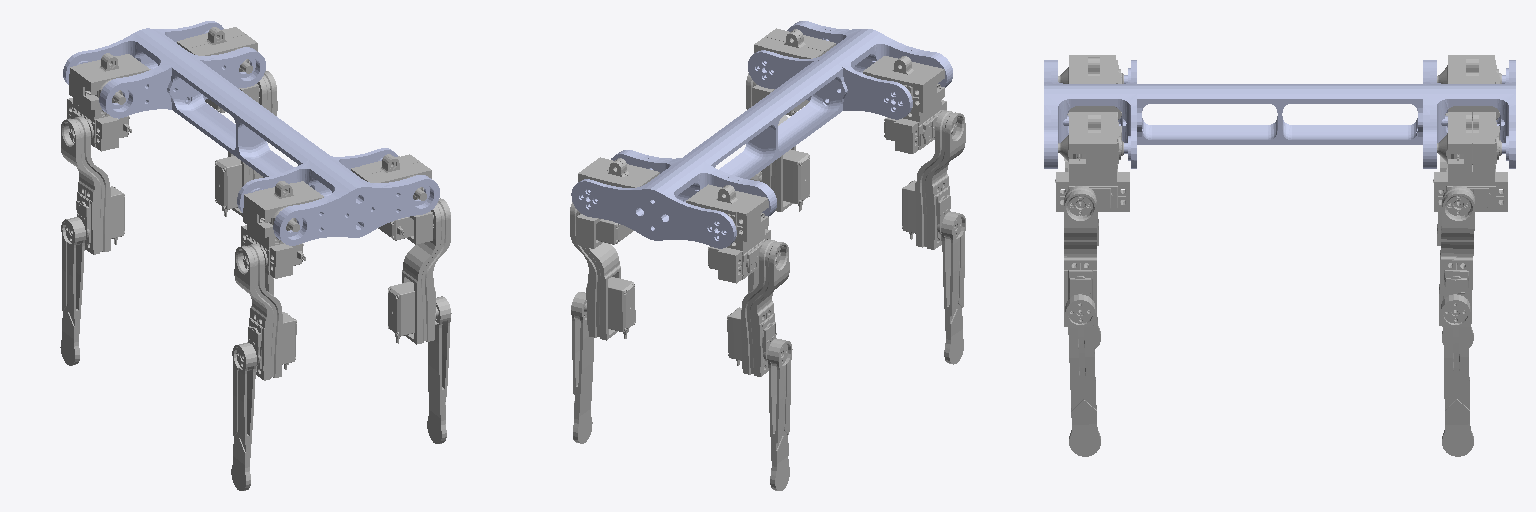
robot.urdf — Whole BODY URDF SET UP ( V2 ):
<?xml version="1.0" encoding="utf-8"?>
<!-- This URDF was automatically created by SolidWorks to URDF Exporter! Originally created by [author] ([email redacted]) 
     Commit Version: 1.6.1-9-gee910b2-dirty  Build Version: 1.6.9034.11310
     For more information, please see http://wiki.ros.org/sw_urdf_exporter -->
<robot
  name="Whole BODY URDF SET UP ( V2 )">
  <link
    name="base_link">
    <inertial>
      <origin
        xyz="-3.79190785246178E-12 -4.73285476426069E-11 1.22993156310138E-05"
        rpy="0 0 0" />
      <mass
        value="0.071294423148794" />
      <inertia
        ixx="0.00039909716321472"
        ixy="-6.42255536015403E-13"
        ixz="-1.70947655441163E-16"
        iyy="3.1007733586229E-05"
        iyz="-3.32423473596328E-15"
        izz="0.000378318474974679" />
    </inertial>
    <visual>
      <origin
        xyz="0 0 0"
        rpy="0 0 0" />
      <geometry>
        <mesh
          filename="package://Whole BODY URDF SET UP ( V2 )/meshes/base_link.STL" />
      </geometry>
      <material
        name="">
        <color
          rgba="0.792156862745098 0.819607843137255 0.933333333333333 1" />
      </material>
    </visual>
    <collision>
      <origin
        xyz="0 0 0"
        rpy="0 0 0" />
      <geometry>
        <mesh
          filename="package://Whole BODY URDF SET UP ( V2 )/meshes/base_link.STL" />
      </geometry>
    </collision>
  </link>
  <link
    name="Front_Hip">
    <inertial>
      <origin
        xyz="-0.0542406994322873 0.0327335172749213 3.69224386728647E-05"
        rpy="0 0 0" />
      <mass
        value="0.122989405191837" />
      <inertia
        ixx="0.000104696460550069"
        ixy="-5.87910722635516E-13"
        ixz="-4.97582005308306E-12"
        iyy="9.37282525412572E-05"
        iyz="2.09107841059147E-08"
        izz="0.000157523573859397" />
    </inertial>
    <visual>
      <origin
        xyz="0 0 0"
        rpy="0 0 0" />
      <geometry>
        <mesh
          filename="package://Whole BODY URDF SET UP ( V2 )/meshes/Front_Hip.STL" />
      </geometry>
      <material
        name="">
        <color
          rgba="0.792156862745098 0.819607843137255 0.933333333333333 1" />
      </material>
    </visual>
    <collision>
      <origin
        xyz="0 0 0"
        rpy="0 0 0" />
      <geometry>
        <mesh
          filename="package://Whole BODY URDF SET UP ( V2 )/meshes/Front_Hip.STL" />
      </geometry>
    </collision>
  </link>
  <joint
    name="Front_Hip"
    type="fixed">
    <origin
      xyz="0.0542407007709616 0.1149985 5.35317635531158E-05"
      rpy="0 0 0" />
    <parent
      link="base_link" />
    <child
      link="Front_Hip" />
    <axis
      xyz="0 0 0" />
  </joint>
  <link
    name="Front_Left_Shoulder">
    <inertial>
      <origin
        xyz="0.0137739851795447 -0.0125083167030698 -0.0391386009814933"
        rpy="0 0 0" />
      <mass
        value="0.140436940047647" />
      <inertia
        ixx="2.80379795093138E-05"
        ixy="5.40046079082891E-07"
        ixz="5.83190778717332E-09"
        iyy="4.80687439403981E-05"
        iyz="1.13010403668756E-07"
        izz="4.46905233653811E-05" />
    </inertial>
    <visual>
      <origin
        xyz="0 0 0"
        rpy="0 0 0" />
      <geometry>
        <mesh
          filename="package://Whole BODY URDF SET UP ( V2 )/meshes/Front_Left_Shoulder.STL" />
      </geometry>
      <material
        name="">
        <color
          rgba="0.752941176470588 0.752941176470588 0.752941176470588 1" />
      </material>
    </visual>
    <collision>
      <origin
        xyz="0 0 0"
        rpy="0 0 0" />
      <geometry>
        <mesh
          filename="package://Whole BODY URDF SET UP ( V2 )/meshes/Front_Left_Shoulder.STL" />
      </geometry>
    </collision>
  </link>
  <joint
    name="Front_Left_Shoulder"
    type="revolute">
    <origin
      xyz="-0.118561401541924 0 0"
      rpy="1.5707963267949 -0.0365489253746626 0" />
    <parent
      link="Front_Hip" />
    <child
      link="Front_Left_Shoulder" />
    <axis
      xyz="0 0 1" />
    <limit
      lower="-1.57"
      upper="1.57"
      effort="0"
      velocity="0" />
  </joint>
  <link
    name="Front_Left_Upper_Leg">
    <inertial>
      <origin
        xyz="-0.013828468336801 -0.0347803760792297 0.0524397996627176"
        rpy="0 0 0" />
      <mass
        value="0.0622185371057375" />
      <inertia
        ixx="3.95026603492114E-05"
        ixy="3.21197096295723E-06"
        ixz="-4.52317411179885E-06"
        iyy="3.18332809188606E-05"
        iyz="1.54040416662482E-05"
        izz="2.00120493439797E-05" />
    </inertial>
    <visual>
      <origin
        xyz="0 0 0"
        rpy="0 0 0" />
      <geometry>
        <mesh
          filename="package://Whole BODY URDF SET UP ( V2 )/meshes/Front_Left_Upper_Leg.STL" />
      </geometry>
      <material
        name="">
        <color
          rgba="0.752941176470588 0.752941176470588 0.752941176470588 1" />
      </material>
    </visual>
    <collision>
      <origin
        xyz="0 0 0"
        rpy="0 0 0" />
      <geometry>
        <mesh
          filename="package://Whole BODY URDF SET UP ( V2 )/meshes/Front_Left_Upper_Leg.STL" />
      </geometry>
    </collision>
  </link>
  <joint
    name="Front_Left_Upper_Leg"
    type="revolute">
    <origin
      xyz="-0.00185531578486946 -0.0359521599259129 -0.0287921500156247"
      rpy="0.940540322874895 -0.0416664486626156 -0.0211815707953396" />
    <parent
      link="Front_Left_Shoulder" />
    <child
      link="Front_Left_Upper_Leg" />
    <axis
      xyz="0.998671109053135 -0.0515365495797057 0" />
    <limit
      lower="-1.57"
      upper="1.57"
      effort="0"
      velocity="0" />
  </joint>
  <link
    name="Front_Left_Lower_Leg">
    <inertial>
      <origin
        xyz="-0.013627773699421 -0.0505339035503839 -0.0279236330848666"
        rpy="0 0 0" />
      <mass
        value="0.0155256621613376" />
      <inertia
        ixx="2.38562608052736E-05"
        ixy="-8.45654826937263E-07"
        ixz="-4.48322423473567E-07"
        iyy="5.96509335756933E-06"
        iyz="-9.53108411145718E-06"
        izz="1.82031583321377E-05" />
    </inertial>
    <visual>
      <origin
        xyz="0 0 0"
        rpy="0 0 0" />
      <geometry>
        <mesh
          filename="package://Whole BODY URDF SET UP ( V2 )/meshes/Front_Left_Lower_Leg.STL" />
      </geometry>
      <material
        name="">
        <color
          rgba="0.752941176470588 0.752941176470588 0.752941176470588 1" />
      </material>
    </visual>
    <collision>
      <origin
        xyz="0 0 0"
        rpy="0 0 0" />
      <geometry>
        <mesh
          filename="package://Whole BODY URDF SET UP ( V2 )/meshes/Front_Left_Lower_Leg.STL" />
      </geometry>
    </collision>
  </link>
  <joint
    name="Front_Left_Lower_Leg"
    type="revolute">
    <origin
      xyz="-0.0239845511436166 -0.0511939313025561 0.0774627196076526"
      rpy="-1.41646272232564 0.0509476316630302 -0.0436370237871092" />
    <parent
      link="Front_Left_Upper_Leg" />
    <child
      link="Front_Left_Lower_Leg" />
    <axis
      xyz="0.998671109053135 -0.0515365495797045 0" />
    <limit
      lower="-1.57"
      upper="1.57"
      effort="0"
      velocity="0" />
  </joint>
  <link
    name="Front_Right_Shoulder">
    <inertial>
      <origin
        xyz="-0.00461374227477768 -0.0147975561386528 -0.0391253002509455"
        rpy="0 0 0" />
      <mass
        value="0.107869096375755" />
      <inertia
        ixx="2.22394596492884E-05"
        ixy="4.94574385861692E-07"
        ixz="-2.34396356728717E-07"
        iyy="3.46102501709838E-05"
        iyz="-4.77724670579504E-08"
        izz="2.85445263842194E-05" />
    </inertial>
    <visual>
      <origin
        xyz="0 0 0"
        rpy="0 0 0" />
      <geometry>
        <mesh
          filename="package://Whole BODY URDF SET UP ( V2 )/meshes/Front_Right_Shoulder.STL" />
      </geometry>
      <material
        name="">
        <color
          rgba="0.752941176470588 0.752941176470588 0.752941176470588 1" />
      </material>
    </visual>
    <collision>
      <origin
        xyz="0 0 0"
        rpy="0 0 0" />
      <geometry>
        <mesh
          filename="package://Whole BODY URDF SET UP ( V2 )/meshes/Front_Right_Shoulder.STL" />
      </geometry>
    </collision>
  </link>
  <joint
    name="Front_Right_Shoulder"
    type="revolute">
    <origin
      xyz="0.01 0 0"
      rpy="1.5707963267949 0 0" />
    <parent
      link="Front_Hip" />
    <child
      link="Front_Right_Shoulder" />
    <axis
      xyz="0 0 1" />
    <limit
      lower="-1.57"
      upper="1.57"
      effort="0"
      velocity="0" />
  </joint>
  <link
    name="Front_Right_Upper_Leg">
    <inertial>
      <origin
        xyz="0.0145550029352903 -0.0502252403815318 0.0259318743793064"
        rpy="0 0 0" />
      <mass
        value="0.0933622195739167" />
      <inertia
        ixx="7.29830993324334E-05"
        ixy="-1.14286742787086E-05"
        ixz="5.90010674565742E-06"
        iyy="2.77722076589883E-05"
        iyz="2.5260247986535E-05"
        izz="6.365336801426E-05" />
    </inertial>
    <visual>
      <origin
        xyz="0 0 0"
        rpy="0 0 0" />
      <geometry>
        <mesh
          filename="package://Whole BODY URDF SET UP ( V2 )/meshes/Front_Right_Upper_Leg.STL" />
      </geometry>
      <material
        name="">
        <color
          rgba="0.752941176470588 0.752941176470588 0.752941176470588 1" />
      </material>
    </visual>
    <collision>
      <origin
        xyz="0 0 0"
        rpy="0 0 0" />
      <geometry>
        <mesh
          filename="package://Whole BODY URDF SET UP ( V2 )/meshes/Front_Right_Upper_Leg.STL" />
      </geometry>
    </collision>
  </link>
  <joint
    name="Front_Right_Upper_Leg"
    type="revolute">
    <origin
      xyz="0 -0.036 -0.029045"
      rpy="0.44974 0 0" />
    <parent
      link="Front_Right_Shoulder" />
    <child
      link="Front_Right_Upper_Leg" />
    <axis
      xyz="1 0 0" />
    <limit
      lower="-1.57"
      upper="1.57"
      effort="0"
      velocity="0" />
  </joint>
  <link
    name="Front_Right_Lower_Leg">
    <inertial>
      <origin
        xyz="0.00576780968735226 -0.0400146670662228 -0.0384290667257317"
        rpy="0 0 0" />
      <mass
        value="0.0163128824034601" />
      <inertia
        ixx="2.39312087583541E-05"
        ixy="-6.54525511915453E-08"
        ixz="-6.28595038453952E-08"
        iyy="1.16247328034214E-05"
        iyz="-1.13363303959217E-05"
        izz="1.2541700988633E-05" />
    </inertial>
    <visual>
      <origin
        xyz="0 0 0"
        rpy="0 0 0" />
      <geometry>
        <mesh
          filename="package://Whole BODY URDF SET UP ( V2 )/meshes/Front_Right_Lower_Leg.STL" />
      </geometry>
      <material
        name="">
        <color
          rgba="0.752941176470588 0.752941176470588 0.752941176470588 1" />
      </material>
    </visual>
    <collision>
      <origin
        xyz="0 0 0"
        rpy="0 0 0" />
      <geometry>
        <mesh
          filename="package://Whole BODY URDF SET UP ( V2 )/meshes/Front_Right_Lower_Leg.STL" />
      </geometry>
    </collision>
  </link>
  <joint
    name="Front_Right_Lower_Leg"
    type="revolute">
    <origin
      xyz="0.0265392992290382 -0.0830793712108725 0.0428960147240504"
      rpy="-1.19874044905665 0 0" />
    <parent
      link="Front_Right_Upper_Leg" />
    <child
      link="Front_Right_Lower_Leg" />
    <axis
      xyz="1 0 0" />
    <limit
      lower="-1.57"
      upper="1.57"
      effort="0"
      velocity="0" />
  </joint>
  <link
    name="Back_Hip">
    <inertial>
      <origin
        xyz="-0.0542406994322873 0.0327335172749213 3.69224386728792E-05"
        rpy="0 0 0" />
      <mass
        value="0.122989405191837" />
      <inertia
        ixx="0.000104696460550069"
        ixy="-5.87910662549153E-13"
        ixz="-4.97582009755223E-12"
        iyy="9.37282525412574E-05"
        iyz="2.09107841058986E-08"
        izz="0.000157523573859397" />
    </inertial>
    <visual>
      <origin
        xyz="0 0 0"
        rpy="0 0 0" />
      <geometry>
        <mesh
          filename="package://Whole BODY URDF SET UP ( V2 )/meshes/Back_Hip.STL" />
      </geometry>
      <material
        name="">
        <color
          rgba="0.792156862745098 0.819607843137255 0.933333333333333 1" />
      </material>
    </visual>
    <collision>
      <origin
        xyz="0 0 0"
        rpy="0 0 0" />
      <geometry>
        <mesh
          filename="package://Whole BODY URDF SET UP ( V2 )/meshes/Back_Hip.STL" />
      </geometry>
    </collision>
  </link>
  <joint
    name="Back_Hip"
    type="fixed">
    <origin
      xyz="0.0542407007709615 -0.1897985 5.35317635530875E-05"
      rpy="0 0 0" />
    <parent
      link="base_link" />
    <child
      link="Back_Hip" />
    <axis
      xyz="0 0 0" />
  </joint>
  <link
    name="Back_Right_Shoulder">
    <inertial>
      <origin
        xyz="-0.00461374227477766 -0.0147975561386528 -0.0391253002509455"
        rpy="0 0 0" />
      <mass
        value="0.107869096375755" />
      <inertia
        ixx="2.22394596492884E-05"
        ixy="4.94574385861687E-07"
        ixz="-2.34396356728706E-07"
        iyy="3.46102501709838E-05"
        iyz="-4.77724670579554E-08"
        izz="2.85445263842194E-05" />
    </inertial>
    <visual>
      <origin
        xyz="0 0 0"
        rpy="0 0 0" />
      <geometry>
        <mesh
          filename="package://Whole BODY URDF SET UP ( V2 )/meshes/Back_Right_Shoulder.STL" />
      </geometry>
      <material
        name="">
        <color
          rgba="0.752941176470588 0.752941176470588 0.752941176470588 1" />
      </material>
    </visual>
    <collision>
      <origin
        xyz="0 0 0"
        rpy="0 0 0" />
      <geometry>
        <mesh
          filename="package://Whole BODY URDF SET UP ( V2 )/meshes/Back_Right_Shoulder.STL" />
      </geometry>
    </collision>
  </link>
  <joint
    name="Back_Right_Shoulder"
    type="revolute">
    <origin
      xyz="0.01 0 0"
      rpy="1.5708 0 0" />
    <parent
      link="Back_Hip" />
    <child
      link="Back_Right_Shoulder" />
    <axis
      xyz="0 0 1" />
    <limit
      lower="-1.57"
      upper="1.57"
      effort="0"
      velocity="0" />
  </joint>
  <link
    name="Back_Right_Upper_Leg">
    <inertial>
      <origin
        xyz="0.0145550053871803 -0.0502252420928833 0.0259318753118444"
        rpy="0 0 0" />
      <mass
        value="0.0933621516080197" />
      <inertia
        ixx="7.29830747018299E-05"
        ixy="-1.14286631327967E-05"
        ixz="5.90010371255244E-06"
        iyy="2.77721811554339E-05"
        iyz="2.52602440014786E-05"
        izz="6.36533221440965E-05" />
    </inertial>
    <visual>
      <origin
        xyz="0 0 0"
        rpy="0 0 0" />
      <geometry>
        <mesh
          filename="package://Whole BODY URDF SET UP ( V2 )/meshes/Back_Right_Upper_Leg.STL" />
      </geometry>
      <material
        name="">
        <color
          rgba="0.752941176470588 0.752941176470588 0.752941176470588 1" />
      </material>
    </visual>
    <collision>
      <origin
        xyz="0 0 0"
        rpy="0 0 0" />
      <geometry>
        <mesh
          filename="package://Whole BODY URDF SET UP ( V2 )/meshes/Back_Right_Upper_Leg.STL" />
      </geometry>
    </collision>
  </link>
  <joint
    name="Back_Right_Upper_Leg"
    type="revolute">
    <origin
      xyz="0 -0.0360000000000002 -0.0290449999999998"
      rpy="0.475650962623188 0 0" />
    <parent
      link="Back_Right_Shoulder" />
    <child
      link="Back_Right_Upper_Leg" />
    <axis
      xyz="1 0 0" />
    <limit
      lower="-1.57"
      upper="1.57"
      effort="0"
      velocity="0" />
  </joint>
  <link
    name="Back_Right_Lower_Leg">
    <inertial>
      <origin
        xyz="0.00576780968178839 -0.0400146670657066 -0.0384290667120216"
        rpy="0 0 0" />
      <mass
        value="0.0163128824062683" />
      <inertia
        ixx="2.39312087567548E-05"
        ixy="-6.54525438821805E-08"
        ixz="-6.2859497216114E-08"
        iyy="1.16247328026077E-05"
        iyz="-1.13363303950842E-05"
        izz="1.25417009878186E-05" />
    </inertial>
    <visual>
      <origin
        xyz="0 0 0"
        rpy="0 0 0" />
      <geometry>
        <mesh
          filename="package://Whole BODY URDF SET UP ( V2 )/meshes/Back_Right_Lower_Leg.STL" />
      </geometry>
      <material
        name="">
        <color
          rgba="0.752941176470588 0.752941176470588 0.752941176470588 1" />
      </material>
    </visual>
    <collision>
      <origin
        xyz="0 0 0"
        rpy="0 0 0" />
      <geometry>
        <mesh
          filename="package://Whole BODY URDF SET UP ( V2 )/meshes/Back_Right_Lower_Leg.STL" />
      </geometry>
    </collision>
  </link>
  <joint
    name="Back_Right_Lower_Leg"
    type="revolute">
    <origin
      xyz="0.0265392992290382 -0.0830793712108724 0.0428960147240505"
      rpy="-1.20853606323344 0 0" />
    <parent
      link="Back_Right_Upper_Leg" />
    <child
      link="Back_Right_Lower_Leg" />
    <axis
      xyz="1 0 0" />
    <limit
      lower="-1.57"
      upper="1.57"
      effort="0"
      velocity="0" />
  </joint>
  <link
    name="Back_Left_Shoulder">
    <inertial>
      <origin
        xyz="0.0137672464683883 -0.012515733265331 -0.0391386009811263"
        rpy="0 0 0" />
      <mass
        value="0.140436940048382" />
      <inertia
        ixx="2.80385670336967E-05"
        ixy="5.50833906686902E-07"
        ixz="5.89277080733467E-09"
        iyy="4.80681564157603E-05"
        iyz="1.13007246021601E-07"
        izz="4.46905233660077E-05" />
    </inertial>
    <visual>
      <origin
        xyz="0 0 0"
        rpy="0 0 0" />
      <geometry>
        <mesh
          filename="package://Whole BODY URDF SET UP ( V2 )/meshes/Back_Left_Shoulder.STL" />
      </geometry>
      <material
        name="">
        <color
          rgba="0.752941176470588 0.752941176470588 0.752941176470588 1" />
      </material>
    </visual>
    <collision>
      <origin
        xyz="0 0 0"
        rpy="0 0 0" />
      <geometry>
        <mesh
          filename="package://Whole BODY URDF SET UP ( V2 )/meshes/Back_Left_Shoulder.STL" />
      </geometry>
    </collision>
  </link>
  <joint
    name="Back_Left_Shoulder"
    type="revolute">
    <origin
      xyz="-0.118561401541923 0 0"
      rpy="1.5707963267949 -0.0348277893882829 0" />
    <parent
      link="Back_Hip" />
    <child
      link="Back_Left_Shoulder" />
    <axis
      xyz="0 0 1" />
    <limit
      lower="-1.57"
      upper="1.57"
      effort="0"
      velocity="0" />
  </joint>
  <link
    name="Back_Left_Upper_Leg">
    <inertial>
      <origin
        xyz="-0.0139225751564403 -0.0355664907379372 0.0518891619621726"
        rpy="0 0 0" />
      <mass
        value="0.0622186079139299" />
      <inertia
        ixx="3.95156477351144E-05"
        ixy="3.25854795211541E-06"
        ixz="-4.44575114070896E-06"
        iyy="3.13613450807017E-05"
        iyz="1.55816275661627E-05"
        izz="2.04710672878226E-05" />
    </inertial>
    <visual>
      <origin
        xyz="0 0 0"
        rpy="0 0 0" />
      <geometry>
        <mesh
          filename="package://Whole BODY URDF SET UP ( V2 )/meshes/Back_Left_Upper_Leg.STL" />
      </geometry>
      <material
        name="">
        <color
          rgba="0.752941176470588 0.752941176470588 0.752941176470588 1" />
      </material>
    </visual>
    <collision>
      <origin
        xyz="0 0 0"
        rpy="0 0 0" />
      <geometry>
        <mesh
          filename="package://Whole BODY URDF SET UP ( V2 )/meshes/Back_Left_Upper_Leg.STL" />
      </geometry>
    </collision>
  </link>
  <joint
    name="Back_Left_Upper_Leg"
    type="revolute">
    <origin
      xyz="-0.0018553 -0.035952 -0.028792"
      rpy="0.97568 -0.042707 -0.022664" />
    <parent
      link="Back_Left_Shoulder" />
    <child
      link="Back_Left_Upper_Leg" />
    <axis
      xyz="0.99867 -0.051537 0" />
    <limit
      lower="-1.57"
      upper="1.57"
      effort="0"
      velocity="0" />
  </joint>
  <link
    name="Back_Left_Lower_Leg">
    <inertial>
      <origin
        xyz="-0.0135010627757997 -0.0498626288456318 -0.0291747645759395"
        rpy="0 0 0" />
      <mass
        value="0.0155256628725993" />
      <inertia
        ixx="2.38552235022288E-05"
        ixy="-8.56562370246991E-07"
        ixz="-4.54289055186908E-07"
        iyy="5.96615071085713E-06"
        iyz="-9.53081394361671E-06"
        izz="1.82031383642722E-05" />
    </inertial>
    <visual>
      <origin
        xyz="0 0 0"
        rpy="0 0 0" />
      <geometry>
        <mesh
          filename="package://Whole BODY URDF SET UP ( V2 )/meshes/Back_Left_Lower_Leg.STL" />
      </geometry>
      <material
        name="">
        <color
          rgba="0.752941176470588 0.752941176470588 0.752941176470588 1" />
      </material>
    </visual>
    <collision>
      <origin
        xyz="0 0 0"
        rpy="0 0 0" />
      <geometry>
        <mesh
          filename="package://Whole BODY URDF SET UP ( V2 )/meshes/Back_Left_Lower_Leg.STL" />
      </geometry>
    </collision>
  </link>
  <joint
    name="Back_Left_Lower_Leg"
    type="revolute">
    <origin
      xyz="-0.024177 -0.051184 0.077463"
      rpy="-1.4523 0.051199 -0.045467" />
    <parent
      link="Back_Left_Upper_Leg" />
    <child
      link="Back_Left_Lower_Leg" />
    <axis
      xyz="0.99867 -0.051537 0" />
    <limit
      lower="-1.57"
      upper="1.57"
      effort="0"
      velocity="0" />
  </joint>
</robot>

--- Facts derived from the render (not from the file) ---
3 views of the same robot in one strip: view 1: azimuth 30°, elevation 25°; view 2: azimuth 150°, elevation 25°; view 3: azimuth 270°, elevation 25° (orthographic).
Robot: Whole BODY URDF SET UP ( V2 ) — 15 links, 14 joints (12 revolute, 2 fixed); root link base_link; default pose: every joint at zero.
Visible links, largest first — view 1: Back_Hip, base_link, Front_Hip, Back_Right_Upper_Leg, Front_Left_Upper_Leg, Back_Left_Upper_Leg, Front_Left_Shoulder, Back_Left_Shoulder, Back_Left_Lower_Leg, Front_Left_Lower_Leg, Back_Right_Shoulder, Back_Right_Lower_Leg (+2 smaller); view 2: Front_Hip, base_link, Back_Hip, Back_Left_Upper_Leg, Front_Left_Upper_Leg, Front_Left_Shoulder, Back_Left_Shoulder, Front_Right_Upper_Leg, Back_Left_Lower_Leg, Front_Left_Lower_Leg, Front_Right_Shoulder, Front_Right_Lower_Leg (+2 smaller); view 3: base_link, Back_Right_Shoulder, Front_Right_Shoulder, Front_Hip, Back_Hip, Back_Right_Lower_Leg, Front_Right_Lower_Leg, Front_Right_Upper_Leg, Back_Right_Upper_Leg, Back_Left_Shoulder, Front_Left_Shoulder.
Boxes of the visible links, x1,y1,x2,y2 form: Back_Hip: (237, 148, 439, 245); base_link: (167, 60, 329, 177); Front_Hip: (63, 21, 265, 118); Back_Right_Upper_Leg: (388, 198, 450, 344); Front_Left_Upper_Leg: (61, 116, 124, 254); Back_Left_Upper_Leg: (234, 244, 296, 380); Front_Left_Shoulder: (67, 53, 150, 151); Back_Left_Shoulder: (241, 181, 323, 278); Back_Left_Lower_Leg: (231, 342, 256, 490); Front_Left_Lower_Leg: (60, 217, 85, 365); Back_Right_Shoulder: (351, 154, 432, 244); Back_Right_Lower_Leg: (427, 296, 451, 443); Front_Hip: (571, 150, 776, 248); base_link: (683, 60, 847, 179); Back_Hip: (748, 21, 952, 119); Back_Left_Upper_Leg: (902, 110, 965, 249); Front_Left_Upper_Leg: (727, 239, 789, 376); Front_Left_Shoulder: (686, 184, 770, 283); Back_Left_Shoulder: (863, 56, 946, 153); Front_Right_Upper_Leg: (570, 202, 635, 340); Back_Left_Lower_Leg: (941, 211, 965, 364); Front_Left_Lower_Leg: (767, 338, 792, 490); Front_Right_Shoulder: (576, 157, 659, 248); Front_Right_Lower_Leg: (571, 292, 593, 443); base_link: (1137, 84, 1422, 144); Back_Right_Shoulder: (1055, 112, 1129, 211); Front_Right_Shoulder: (1433, 112, 1507, 211); Front_Hip: (1423, 60, 1515, 168); Back_Hip: (1044, 60, 1136, 168); Back_Right_Lower_Leg: (1065, 294, 1100, 456); Front_Right_Lower_Leg: (1441, 294, 1473, 456); Front_Right_Upper_Leg: (1439, 186, 1474, 326); Back_Right_Upper_Leg: (1064, 186, 1096, 326); Back_Left_Shoulder: (1058, 55, 1123, 119); Front_Left_Shoulder: (1437, 55, 1501, 120).
Size in the robot's own frame: 0.207 by 0.3796 by 0.2833 metres.
15 mesh visuals loaded from 15 distinct referenced files (15 binary STL).